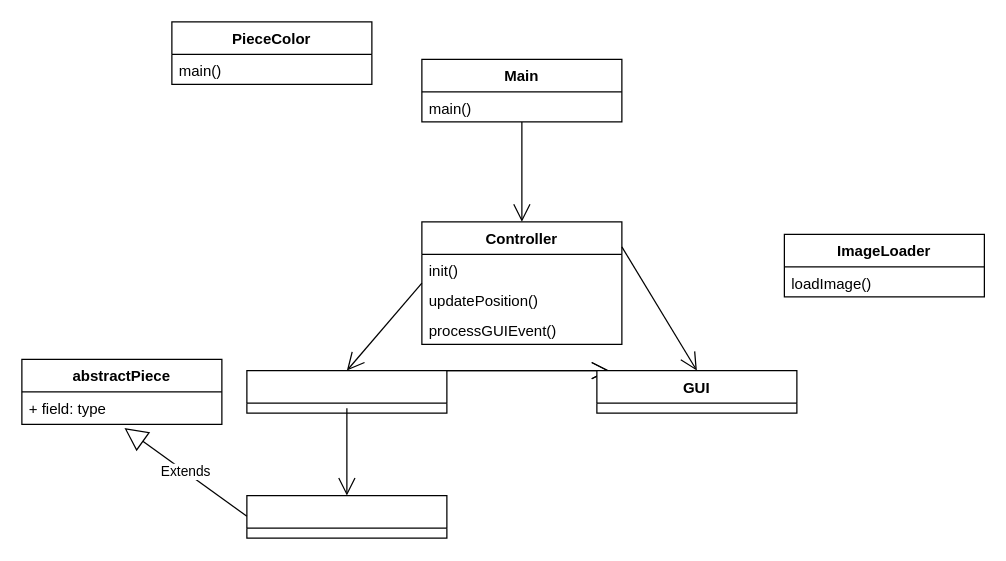
Image size: 1006x561. Some labels were removed from this diagram. Here are the shapes that lost their labels. From the top down, the centre of each, then its label:
(346,391): Board
(346,516): King
